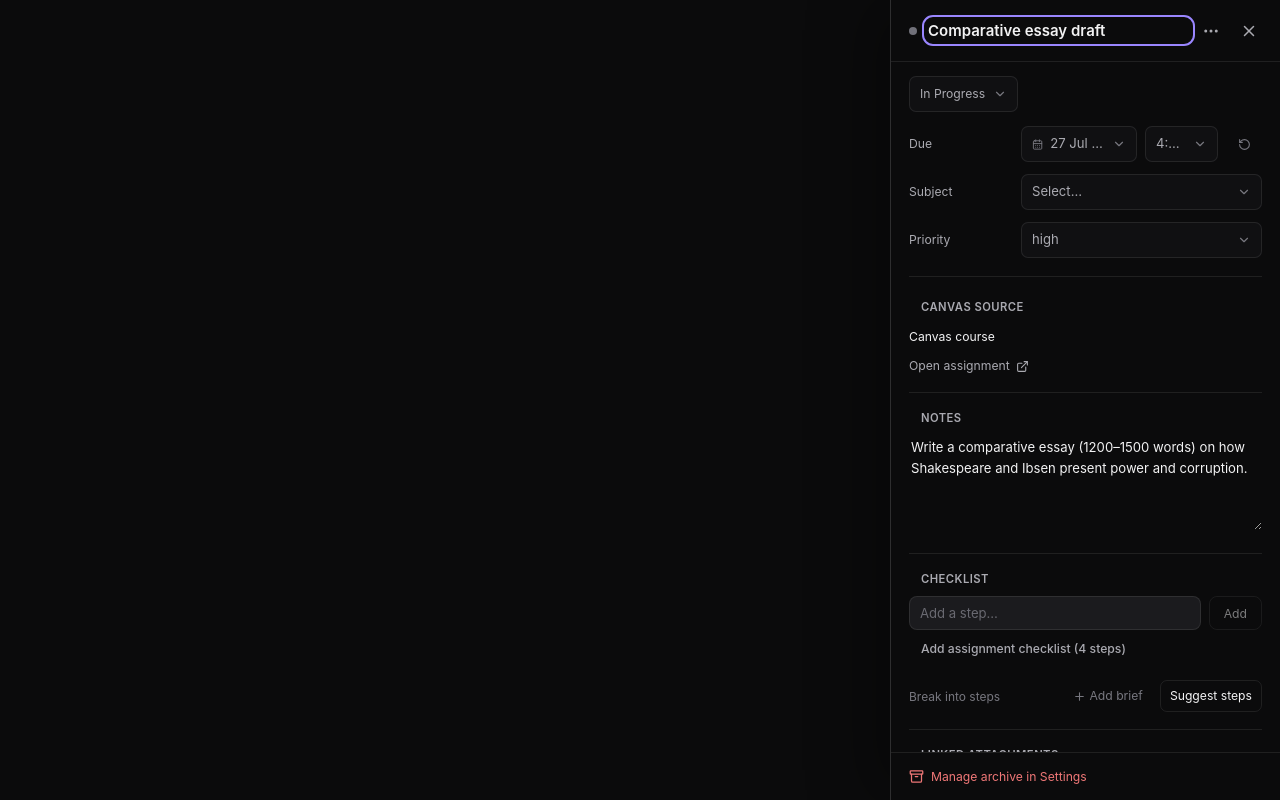
Test: Inspector planning sections › keeps item actions in the header menu, not a manage section
Expected: the text "Pin to top" is not shown
Expected: the text "Duplicate" is not shown
Click the button named "Item actions".
click(1211, 30)  # box [1193,12,1229,48]
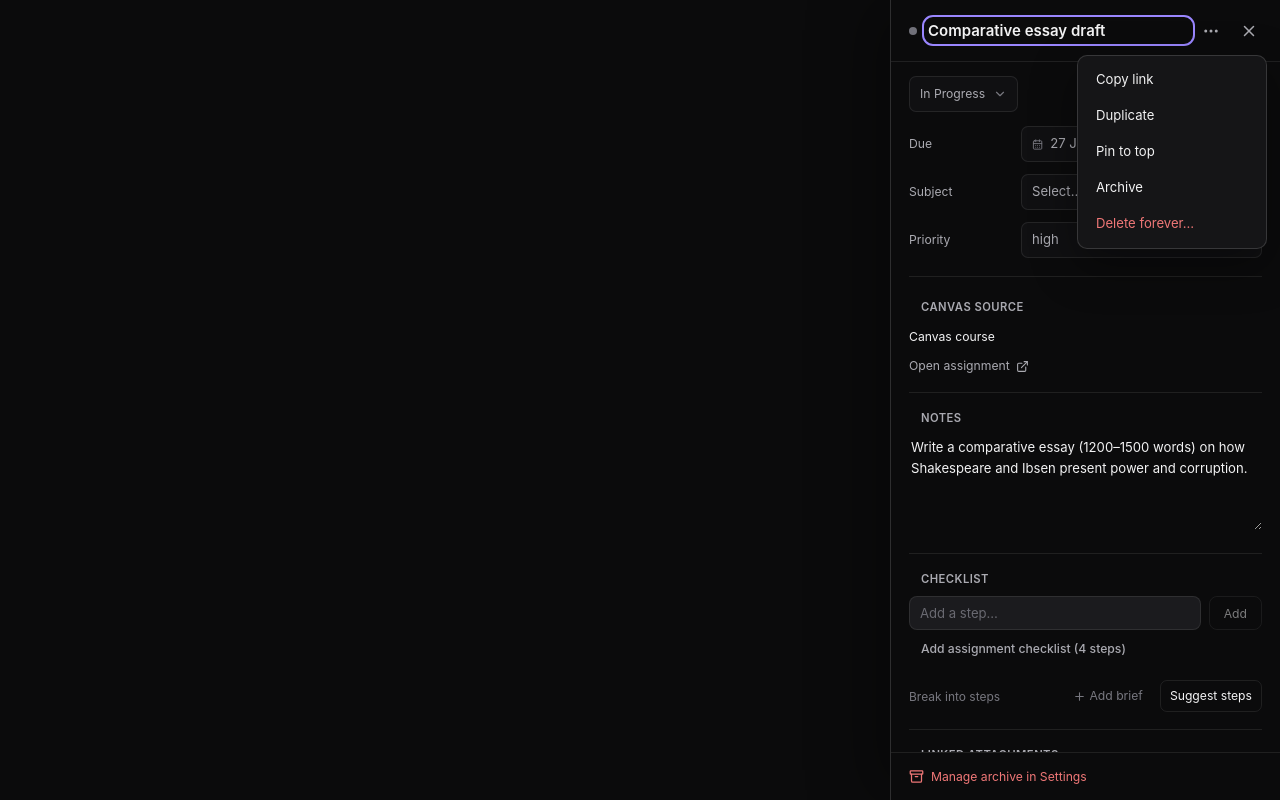
Result: the menu item "Duplicate" is shown at [1084,98,1260,134]
Result: the menu item "Pin to top" is shown at [1084,134,1260,170]
Result: the menu item "Delete forever…" is shown at [1084,206,1260,242]
